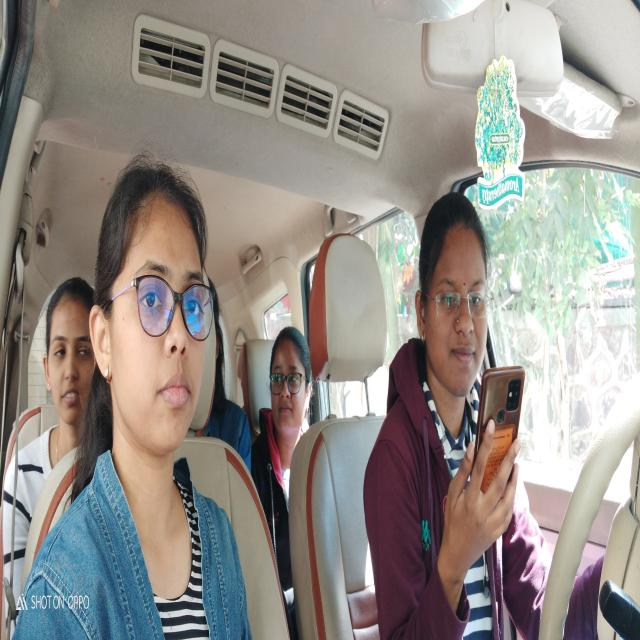mobile: (473, 360, 526, 515)
person: (90, 147, 212, 463), (412, 192, 496, 396), (43, 278, 97, 426), (268, 317, 314, 448)
